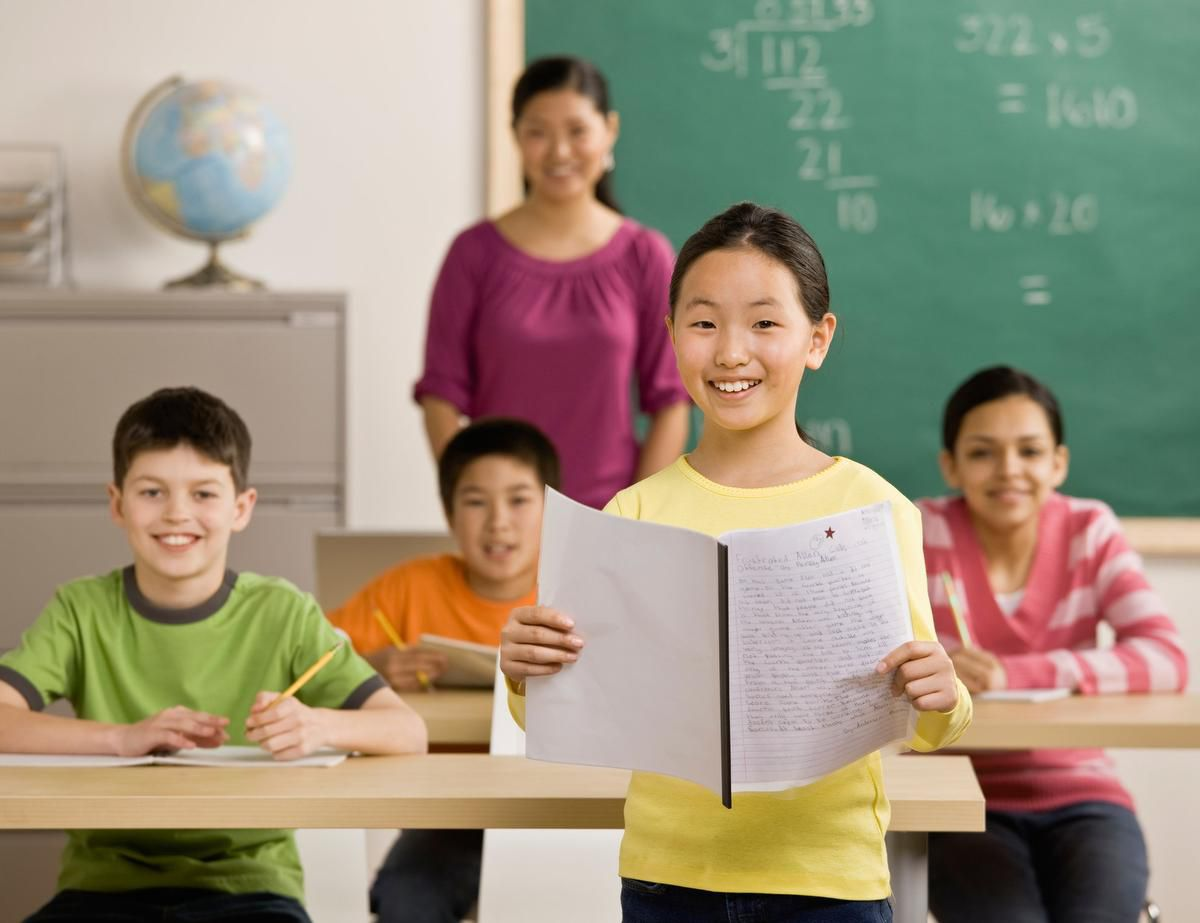Person: (645, 202, 895, 920), (8, 370, 404, 756), (908, 374, 1172, 865), (431, 47, 658, 456)
